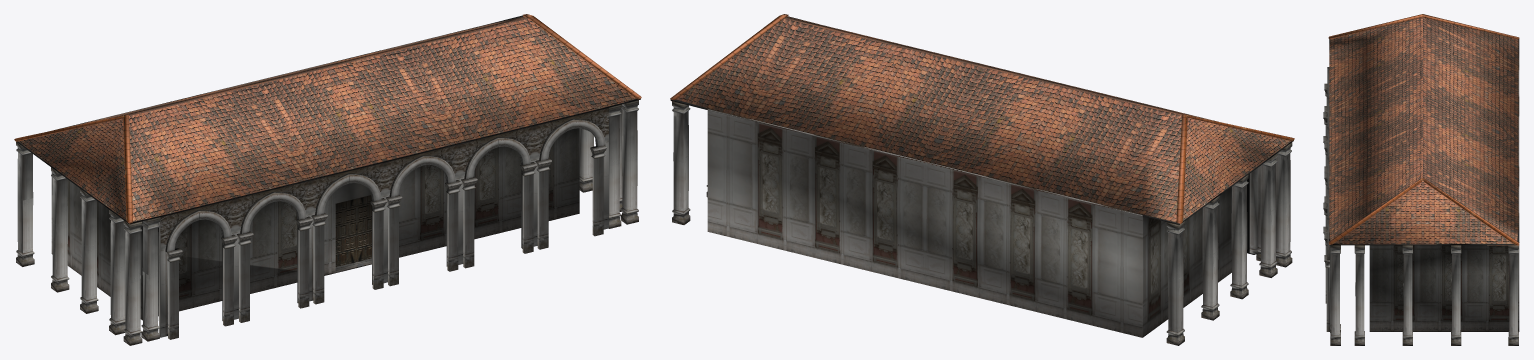
File: building 11.obj
3 renders of one model, left to right at view 1: azimuth 30°, elevation 25°; view 2: azimuth 150°, elevation 25°; view 3: azimuth 270°, elevation 25°, orthographic. The views are drawn at different scales.
Parts seen in each view (by area): view 1: roman_building_9, Form1, Form2; view 2: roman_building_9, Form1, Form2; view 3: Form1, roman_building_9.
Boxes of the visible parts, x1,y1,x2,y2 form: roman_building_9: [16, 15, 640, 341]; Form1: [14, 14, 641, 223]; Form2: [16, 198, 148, 345]; roman_building_9: [670, 16, 1293, 337]; Form1: [670, 14, 1294, 224]; Form2: [1166, 142, 1292, 345]; Form1: [1328, 14, 1519, 245]; roman_building_9: [1323, 39, 1519, 345].
Size of the model in its own units: 158 by 52.41 by 62.97.
